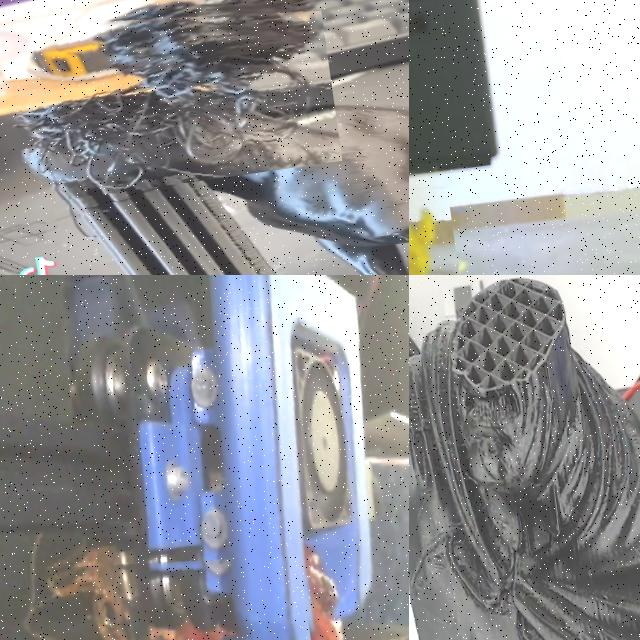spaghetti: (3, 0, 342, 204), (409, 173, 459, 275)
